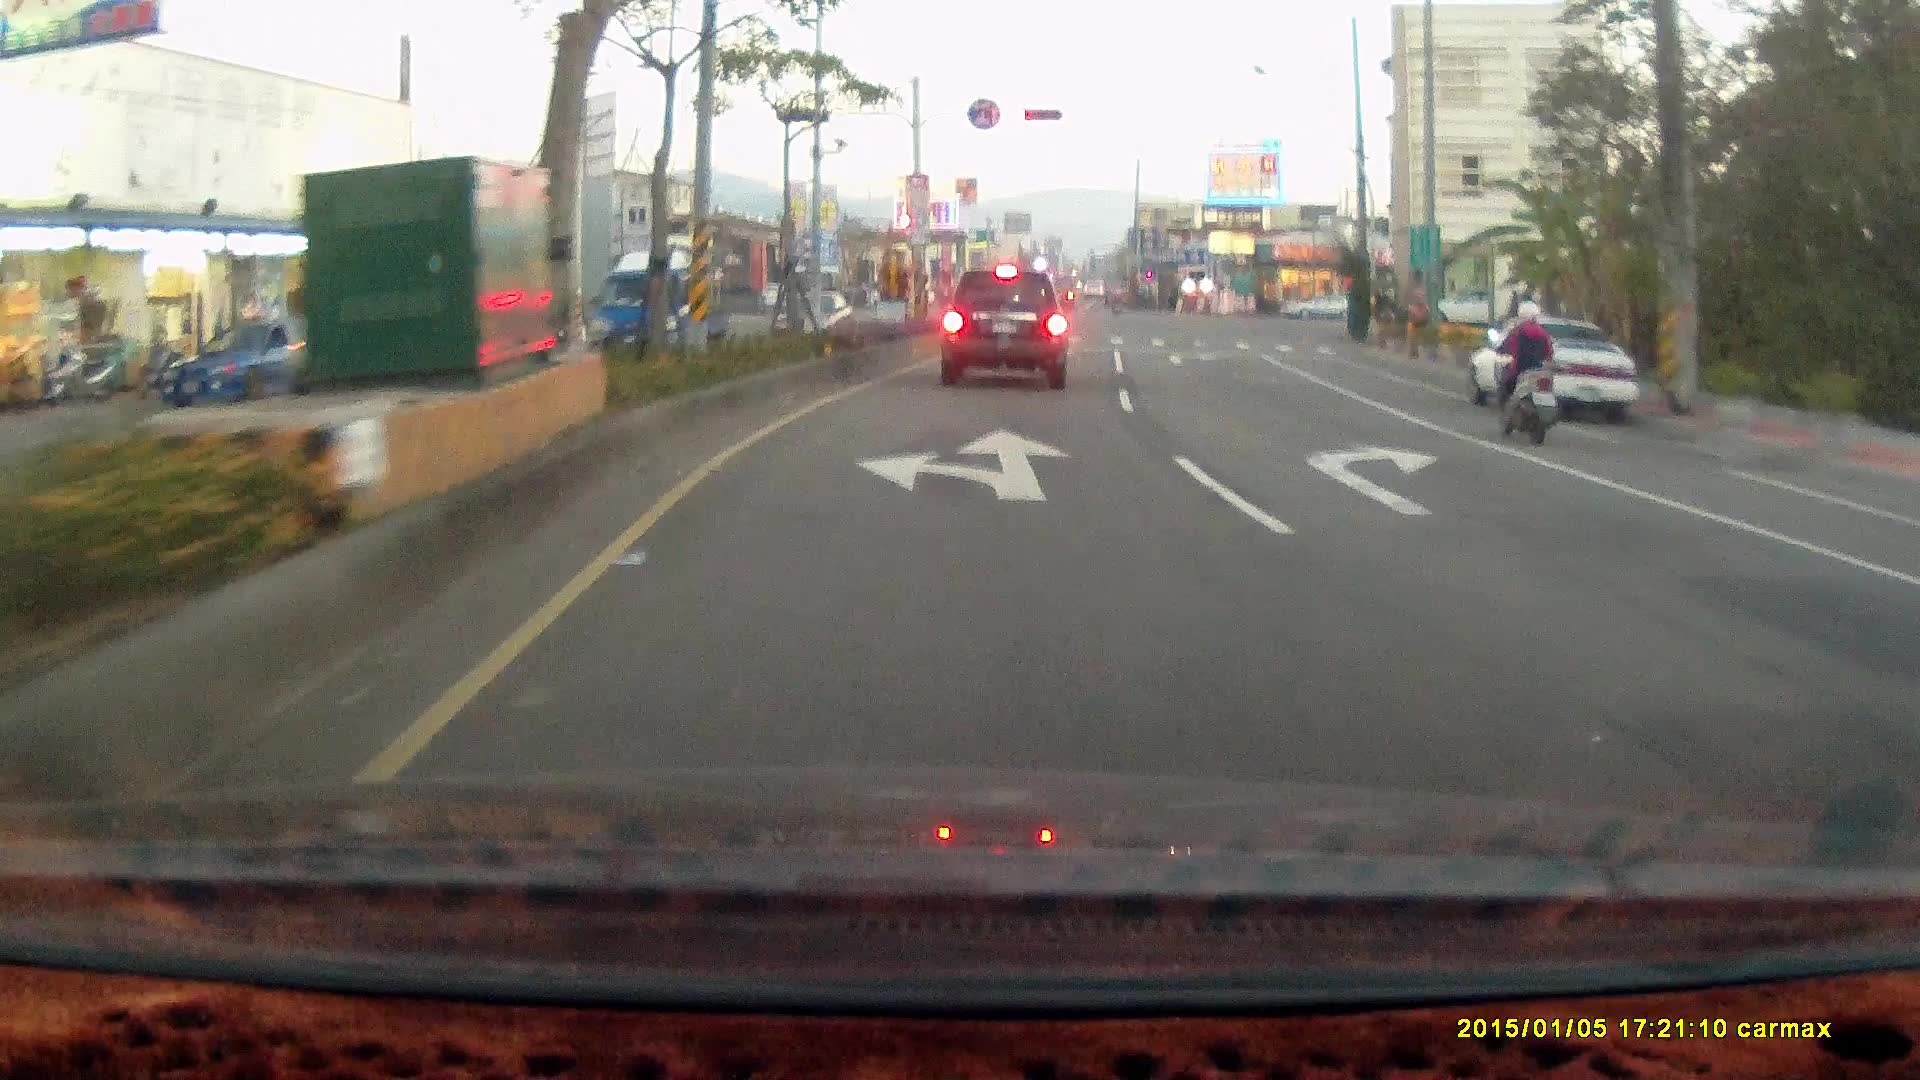rider: (1482, 299, 1561, 444)
vehicle: (1464, 313, 1638, 424), (1475, 323, 1644, 423), (586, 246, 735, 360), (939, 268, 1067, 388), (159, 328, 314, 403), (1896, 493, 1920, 836), (1883, 528, 1920, 690), (1421, 284, 1519, 330), (1279, 291, 1358, 318)
